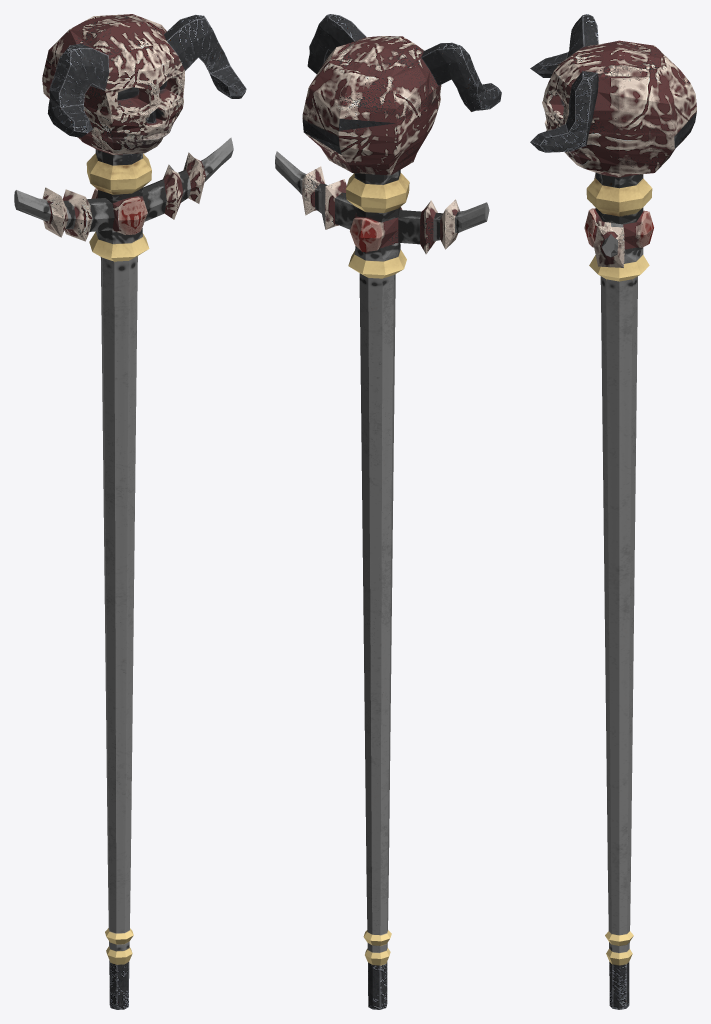
Rendered from Skull Wand.fbx.
3 renders of one model, left to right at view 1: azimuth 30°, elevation 25°; view 2: azimuth 150°, elevation 25°; view 3: azimuth 270°, elevation 25°, orthographic. The views are drawn at different scales.
Parts seen in each view (by area): view 1: Skull_Wand; view 2: Skull_Wand; view 3: Skull_Wand.
Boxes of the visible parts, x1,y1,x2,y2 form: Skull_Wand: (14, 14, 246, 1009); Skull_Wand: (275, 14, 501, 1009); Skull_Wand: (530, 14, 696, 1009).
Size of the model in its own units: 132 by 580 by 91.43.
